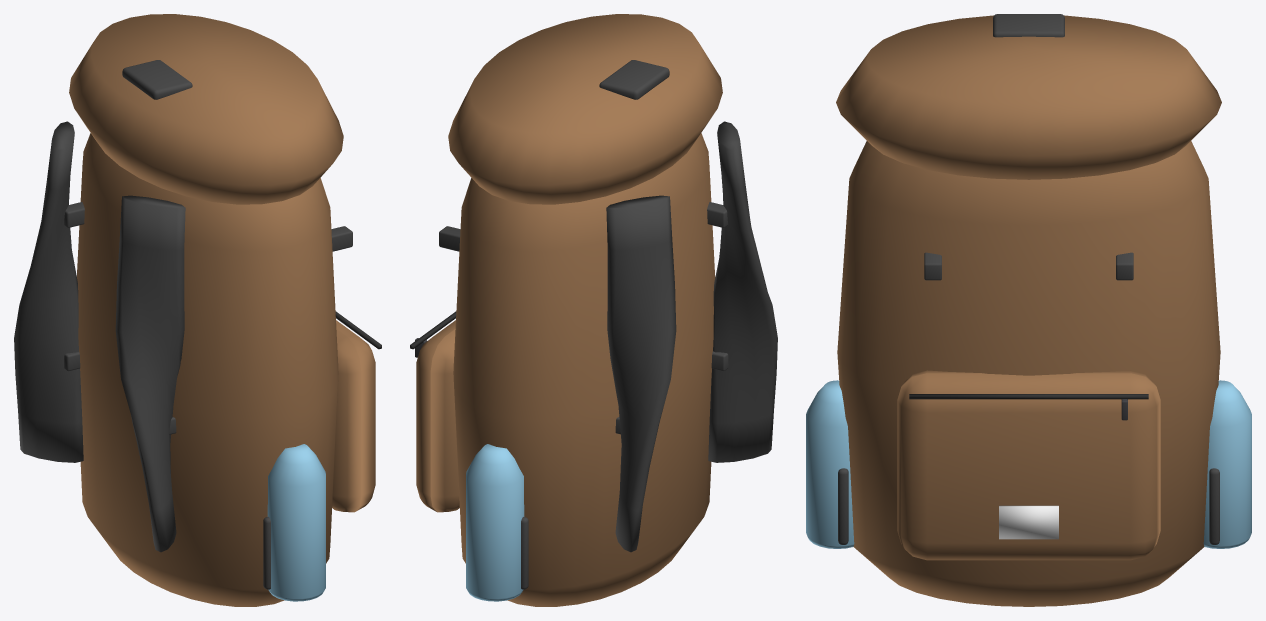
The model's file is SM_BigBackpack.glb.
3 views of the same model, side by side, from view 1: azimuth 30°, elevation 25°; view 2: azimuth 150°, elevation 25°; view 3: azimuth 270°, elevation 25° (orthographic). The views are drawn at different scales.
Visible parts, largest first — view 1: SM_BigBackpack; view 2: SM_BigBackpack; view 3: SM_BigBackpack.
Boxes of the visible parts, x1,y1,x2,y2 form: SM_BigBackpack: [14, 14, 381, 606]; SM_BigBackpack: [410, 14, 777, 606]; SM_BigBackpack: [806, 14, 1251, 606].
Bounding box in the file's own units: 0.3065 × 0.5522 × 0.428.
